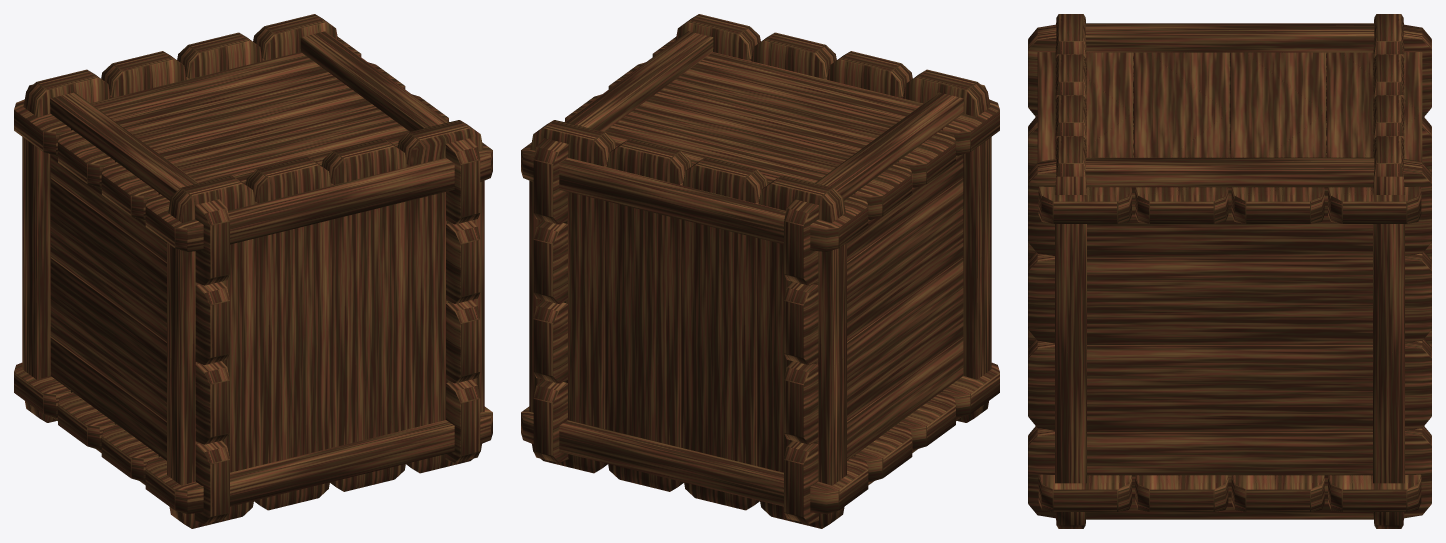
Rendered from BoxWood.fbx.
3 views of the same model, side by side, from view 1: azimuth 30°, elevation 25°; view 2: azimuth 150°, elevation 25°; view 3: azimuth 270°, elevation 25° (orthographic). The views are drawn at different scales.
Visible parts, largest first — view 1: Box Wood FINAL; view 2: Box Wood FINAL; view 3: Box Wood FINAL.
Boxes of the visible parts, x1,y1,x2,y2 form: Box Wood FINAL: (14,14,492,528); Box Wood FINAL: (521,14,999,528); Box Wood FINAL: (1028,14,1431,528).
Bounding box in the file's own units: 200 × 200 × 200.
